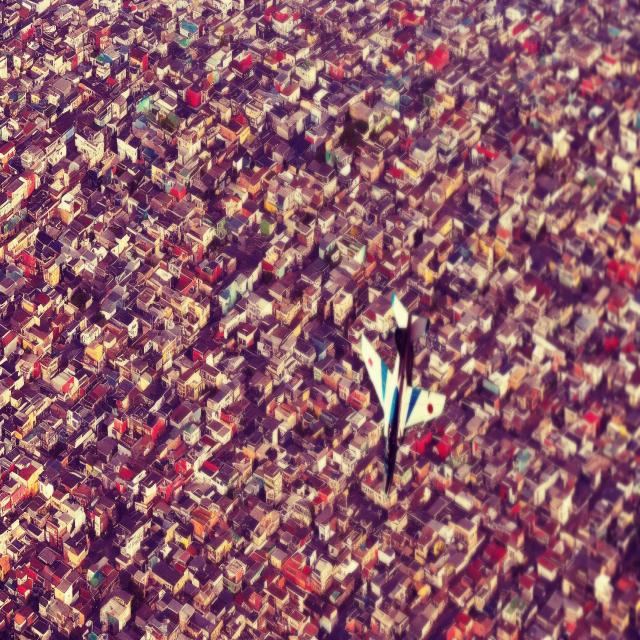airplane: (359, 292, 446, 496)
